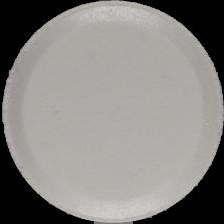50090-0448: (0, 0, 224, 224)
